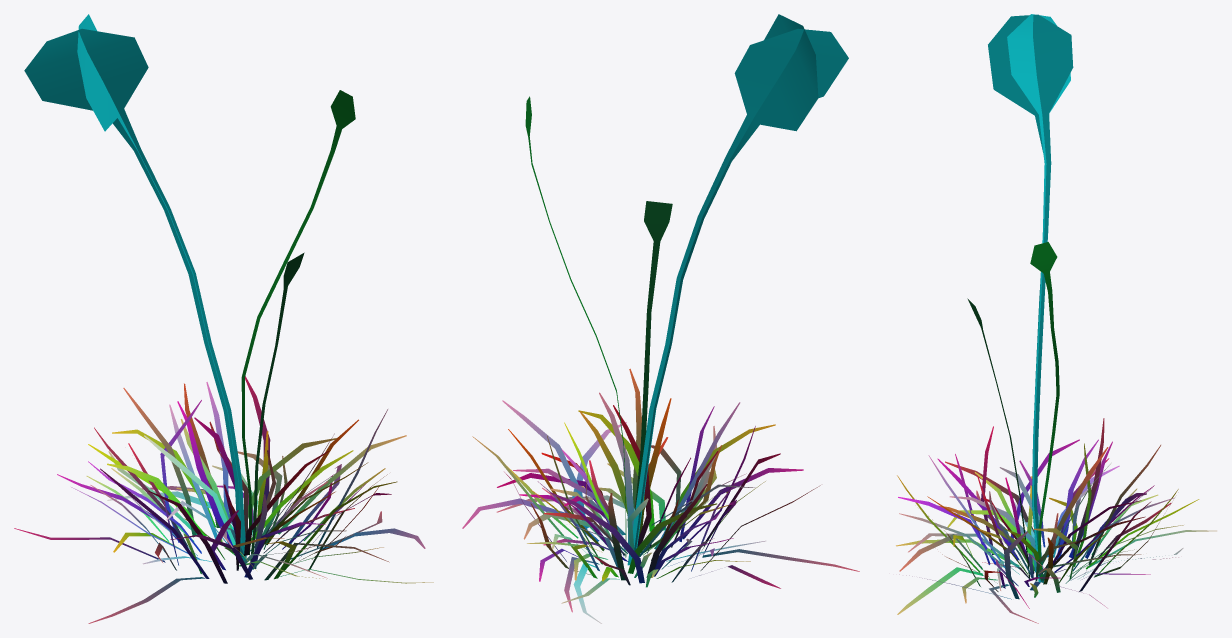
The model's file is Sea_Thrift_vkbgaihha_Mid_vkbgaihha_VarF_LOD1.fbx.
3 views of the same model, side by side, from view 1: azimuth 30°, elevation 25°; view 2: azimuth 150°, elevation 25°; view 3: azimuth 270°, elevation 25° (orthographic). The views are drawn at different scales.
Visible parts, largest first — view 1: _2to0_VarF_LOD2; view 2: _2to0_VarF_LOD2; view 3: _2to0_VarF_LOD2.
Boxes of the visible parts, bbox=[...] form: _2to0_VarF_LOD2: bbox=[14, 14, 433, 623]; _2to0_VarF_LOD2: bbox=[462, 14, 859, 623]; _2to0_VarF_LOD2: bbox=[896, 14, 1216, 623].
Bounding box in the file's own units: 10.79 × 16.34 × 9.77.
